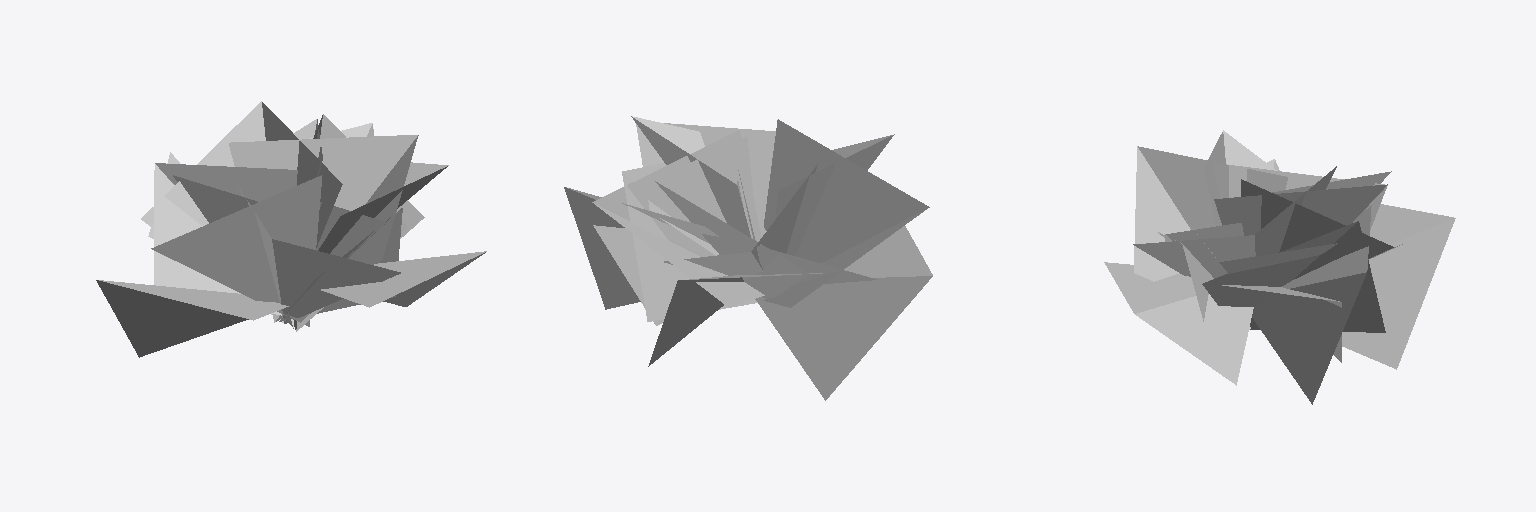
File: bush 01_lod1.obj
The picture shows the model from 3 angles: view 1: azimuth 30°, elevation 25°; view 2: azimuth 150°, elevation 25°; view 3: azimuth 270°, elevation 25°; orthographic projection.
Parts seen in each view (by area): view 1: tree; view 2: tree; view 3: tree.
Part boxes in pixels (x1,y1,x2,y2): tree: (96,101,486,357); tree: (564,116,932,400); tree: (1104,130,1455,404).
Bounding box in the file's own units: 187 × 112 × 175.